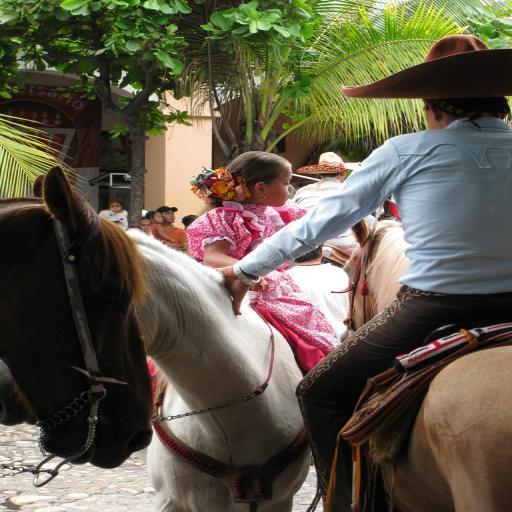horse: (126, 225, 314, 512), (342, 218, 512, 512), (0, 164, 153, 468)
